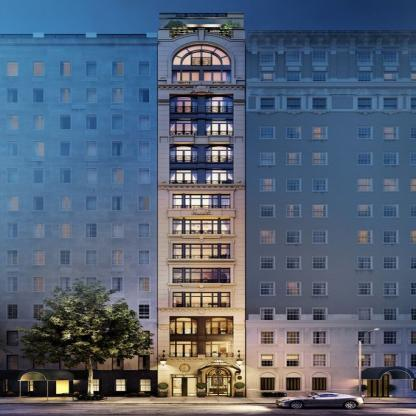Balcony: (158, 29, 245, 38), (172, 81, 231, 87), (173, 304, 230, 310), (173, 205, 230, 211), (173, 231, 230, 237), (173, 255, 230, 261), (173, 279, 230, 285), (170, 131, 197, 137), (170, 156, 197, 162), (170, 328, 197, 334), (170, 181, 197, 187), (170, 106, 197, 112), (206, 106, 232, 112), (206, 131, 232, 137), (206, 156, 232, 162), (206, 181, 232, 187), (206, 328, 232, 334), (170, 352, 197, 357), (206, 352, 232, 357)
Building Outline: (158, 12, 245, 397)
Deco: (190, 85, 213, 93), (190, 208, 212, 215), (234, 179, 245, 184), (158, 179, 169, 184)
Door: (206, 378, 231, 395), (192, 73, 212, 86), (191, 199, 212, 211), (191, 225, 212, 237), (191, 249, 212, 261), (191, 297, 212, 308), (191, 272, 212, 283), (176, 123, 192, 135), (211, 123, 227, 135), (211, 345, 227, 357), (211, 101, 227, 113), (176, 322, 192, 334), (211, 322, 227, 334), (176, 345, 192, 357), (211, 173, 227, 185), (176, 150, 192, 162), (211, 150, 227, 162), (176, 173, 192, 185), (176, 101, 192, 113)
Facade: (158, 12, 245, 397)
Floor Slab: (158, 65, 245, 69), (158, 357, 245, 361), (158, 87, 245, 91), (158, 113, 245, 117), (158, 138, 245, 142), (158, 163, 245, 167), (158, 187, 245, 191), (158, 212, 245, 216), (158, 238, 245, 242), (158, 261, 245, 265), (158, 286, 245, 290), (158, 310, 245, 314), (158, 334, 245, 338)
Molding: (158, 308, 245, 312), (158, 357, 245, 361), (158, 185, 245, 189), (176, 13, 227, 17), (212, 85, 245, 90), (158, 85, 190, 90)
Window: (173, 45, 230, 65), (171, 30, 232, 38), (207, 367, 231, 377), (173, 378, 182, 395), (188, 378, 197, 395), (213, 73, 226, 81), (177, 73, 190, 81), (214, 297, 230, 303), (174, 297, 190, 303), (214, 199, 230, 205), (174, 199, 190, 205), (214, 225, 230, 231), (174, 225, 190, 231), (214, 249, 230, 255), (174, 249, 190, 255), (214, 273, 230, 279), (174, 273, 190, 279), (214, 206, 230, 211), (174, 206, 190, 211), (214, 232, 230, 237), (174, 232, 190, 237), (214, 256, 230, 261), (174, 256, 190, 261), (214, 304, 230, 308), (174, 304, 190, 308), (214, 280, 230, 284), (174, 280, 190, 284), (170, 345, 175, 357), (192, 345, 197, 357), (170, 322, 175, 334), (192, 322, 197, 334), (176, 96, 191, 100), (176, 317, 191, 321), (170, 173, 175, 185), (192, 173, 197, 185), (170, 150, 175, 162), (192, 150, 197, 162), (176, 145, 191, 149), (212, 96, 226, 100), (212, 317, 226, 321), (212, 145, 226, 149), (170, 101, 175, 112), (192, 101, 197, 112), (170, 124, 175, 135), (192, 124, 197, 135), (206, 345, 210, 357), (228, 345, 232, 357), (206, 322, 210, 334), (228, 322, 232, 334), (214, 293, 230, 296), (174, 293, 190, 296), (214, 195, 230, 198), (174, 195, 190, 198), (214, 221, 230, 224), (174, 221, 190, 224), (214, 245, 230, 248), (174, 245, 190, 248), (214, 269, 230, 272), (174, 269, 190, 272), (206, 173, 210, 185), (228, 173, 232, 185), (206, 150, 210, 162), (228, 150, 232, 162), (212, 341, 227, 344), (176, 341, 191, 344), (212, 120, 227, 123), (176, 120, 191, 123), (206, 101, 210, 112), (228, 101, 232, 112), (206, 124, 210, 135), (228, 124, 232, 135), (202, 293, 212, 296), (191, 293, 201, 296), (202, 195, 212, 198), (191, 195, 201, 198), (202, 221, 212, 224), (191, 221, 201, 224), (202, 245, 212, 248), (191, 245, 201, 248), (202, 269, 212, 272), (191, 269, 201, 272), (212, 170, 227, 172), (176, 170, 191, 172), (192, 341, 197, 344), (170, 341, 175, 344), (192, 120, 197, 123), (170, 120, 175, 123), (170, 97, 175, 100), (228, 341, 232, 344), (206, 341, 210, 344), (228, 120, 232, 123), (206, 120, 210, 123), (228, 97, 232, 100), (206, 97, 210, 100), (193, 97, 197, 100), (170, 319, 175, 321), (192, 170, 197, 172), (170, 170, 175, 172), (170, 147, 175, 149), (228, 319, 232, 321), (206, 319, 210, 321), (193, 319, 197, 321), (228, 170, 232, 172), (206, 170, 210, 172), (228, 147, 232, 149), (206, 147, 210, 149), (193, 147, 197, 149)
